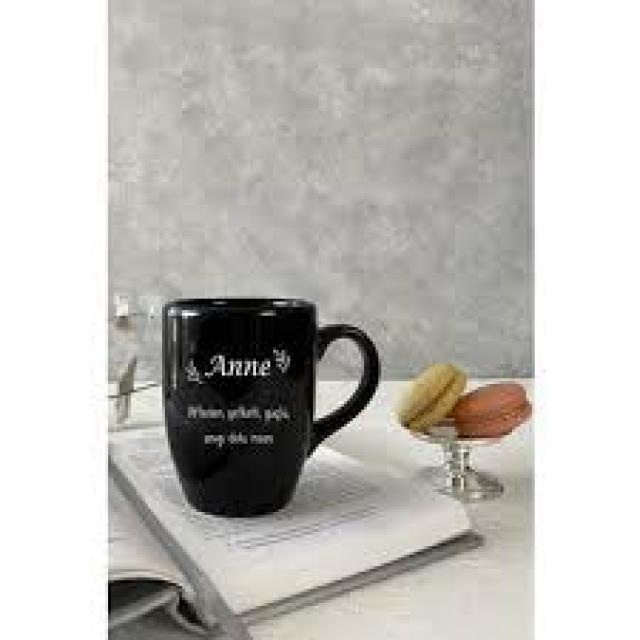taza: (162, 296, 382, 518)
